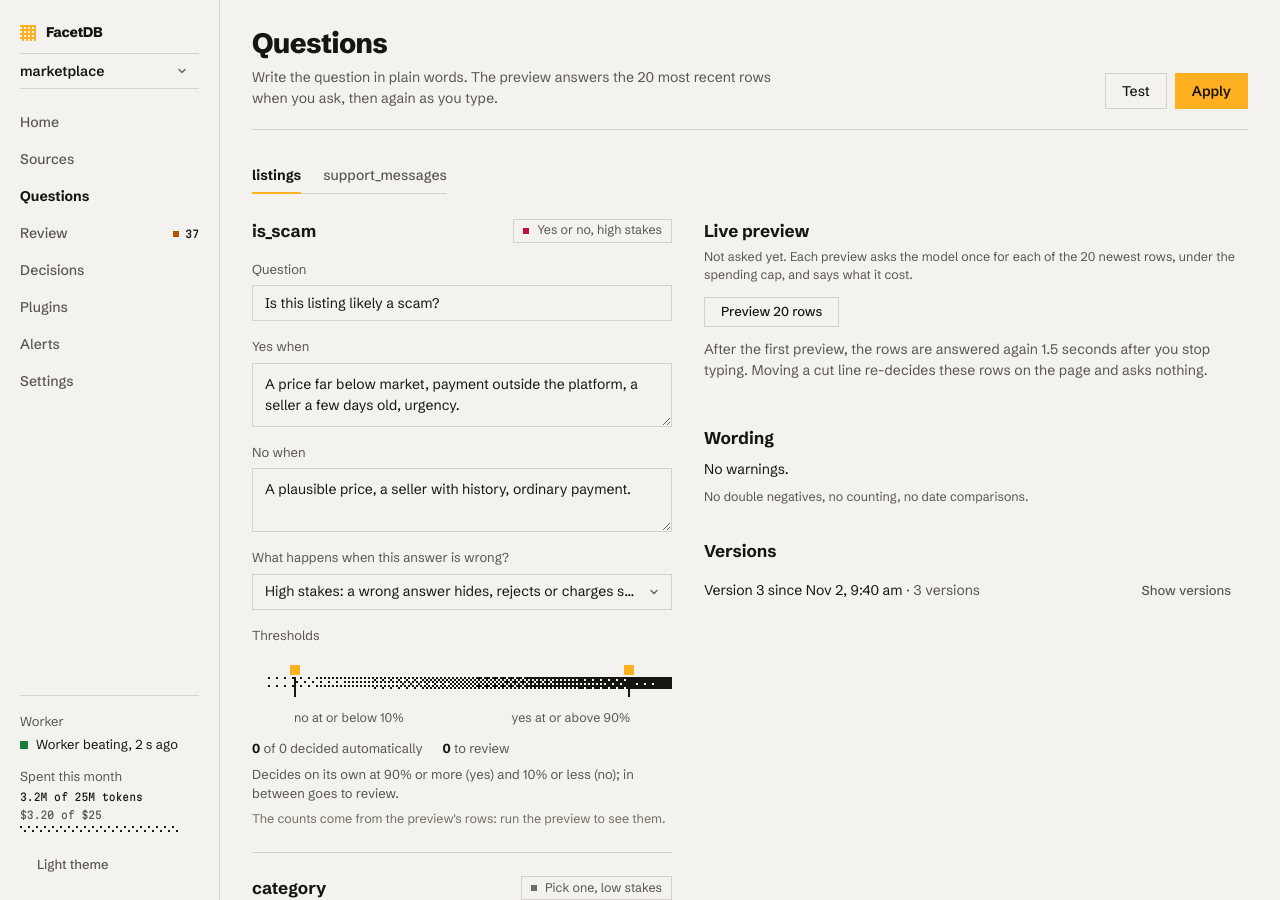
Test: the Questions page › asks the loader once after the typing settles, and shows its warning in the words facetdb preview prints
The image size is (1280, 900).
Expected: the element "is_scam" is shown, [252,218,672,828]
Expected: the text "No warnings." is shown, [704,460,789,478]
Replace the text in the field labelled "Question" with "How many photos does it have?" at point(462, 303), box [252,285,672,321]
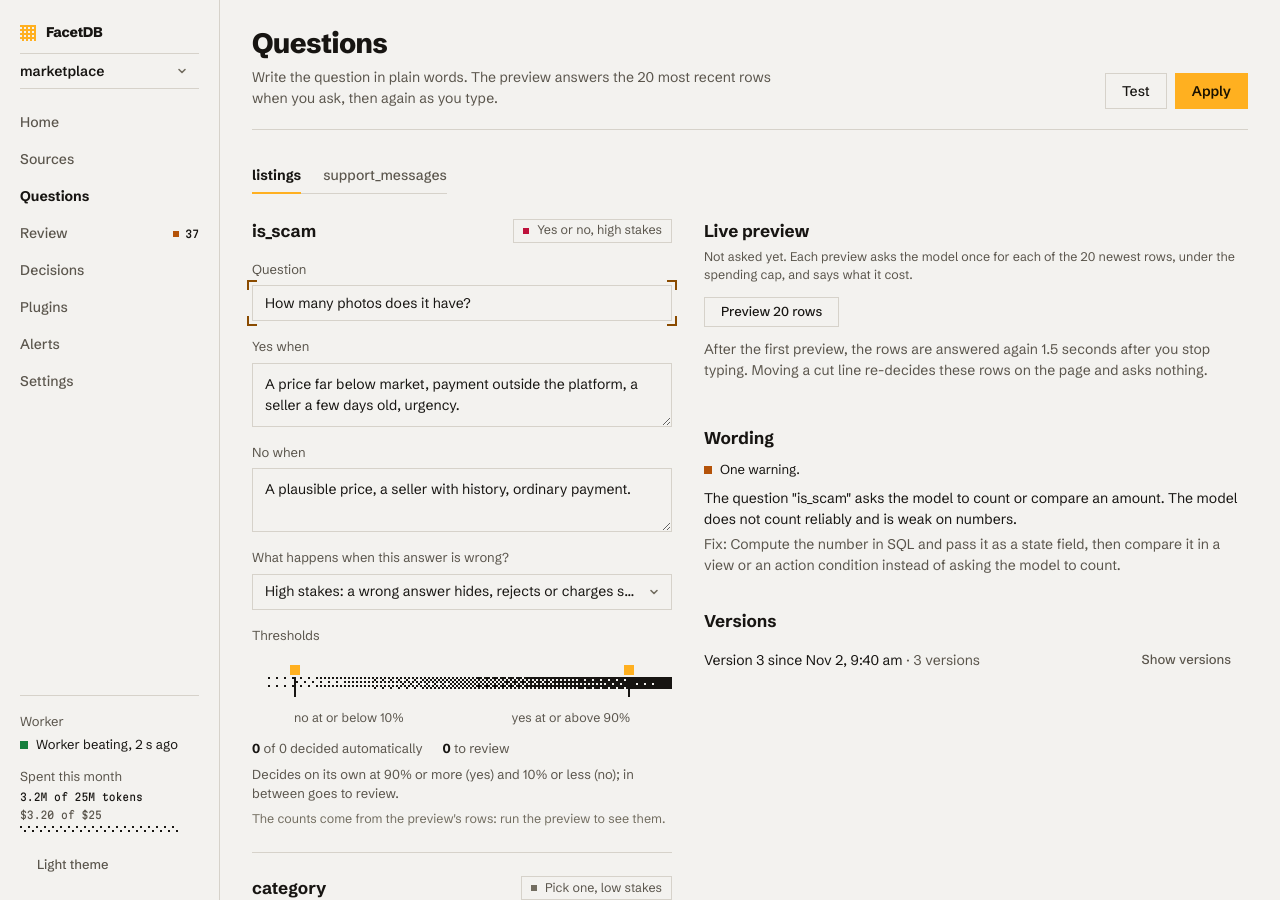
Now the text "The question \"is_scam\" asks the model to count or compare an amount. The model does not count reliably and is weak on nu" is shown, box [704,488,1238,528]
Now the text "One warning." is shown, box [704,460,800,479]
